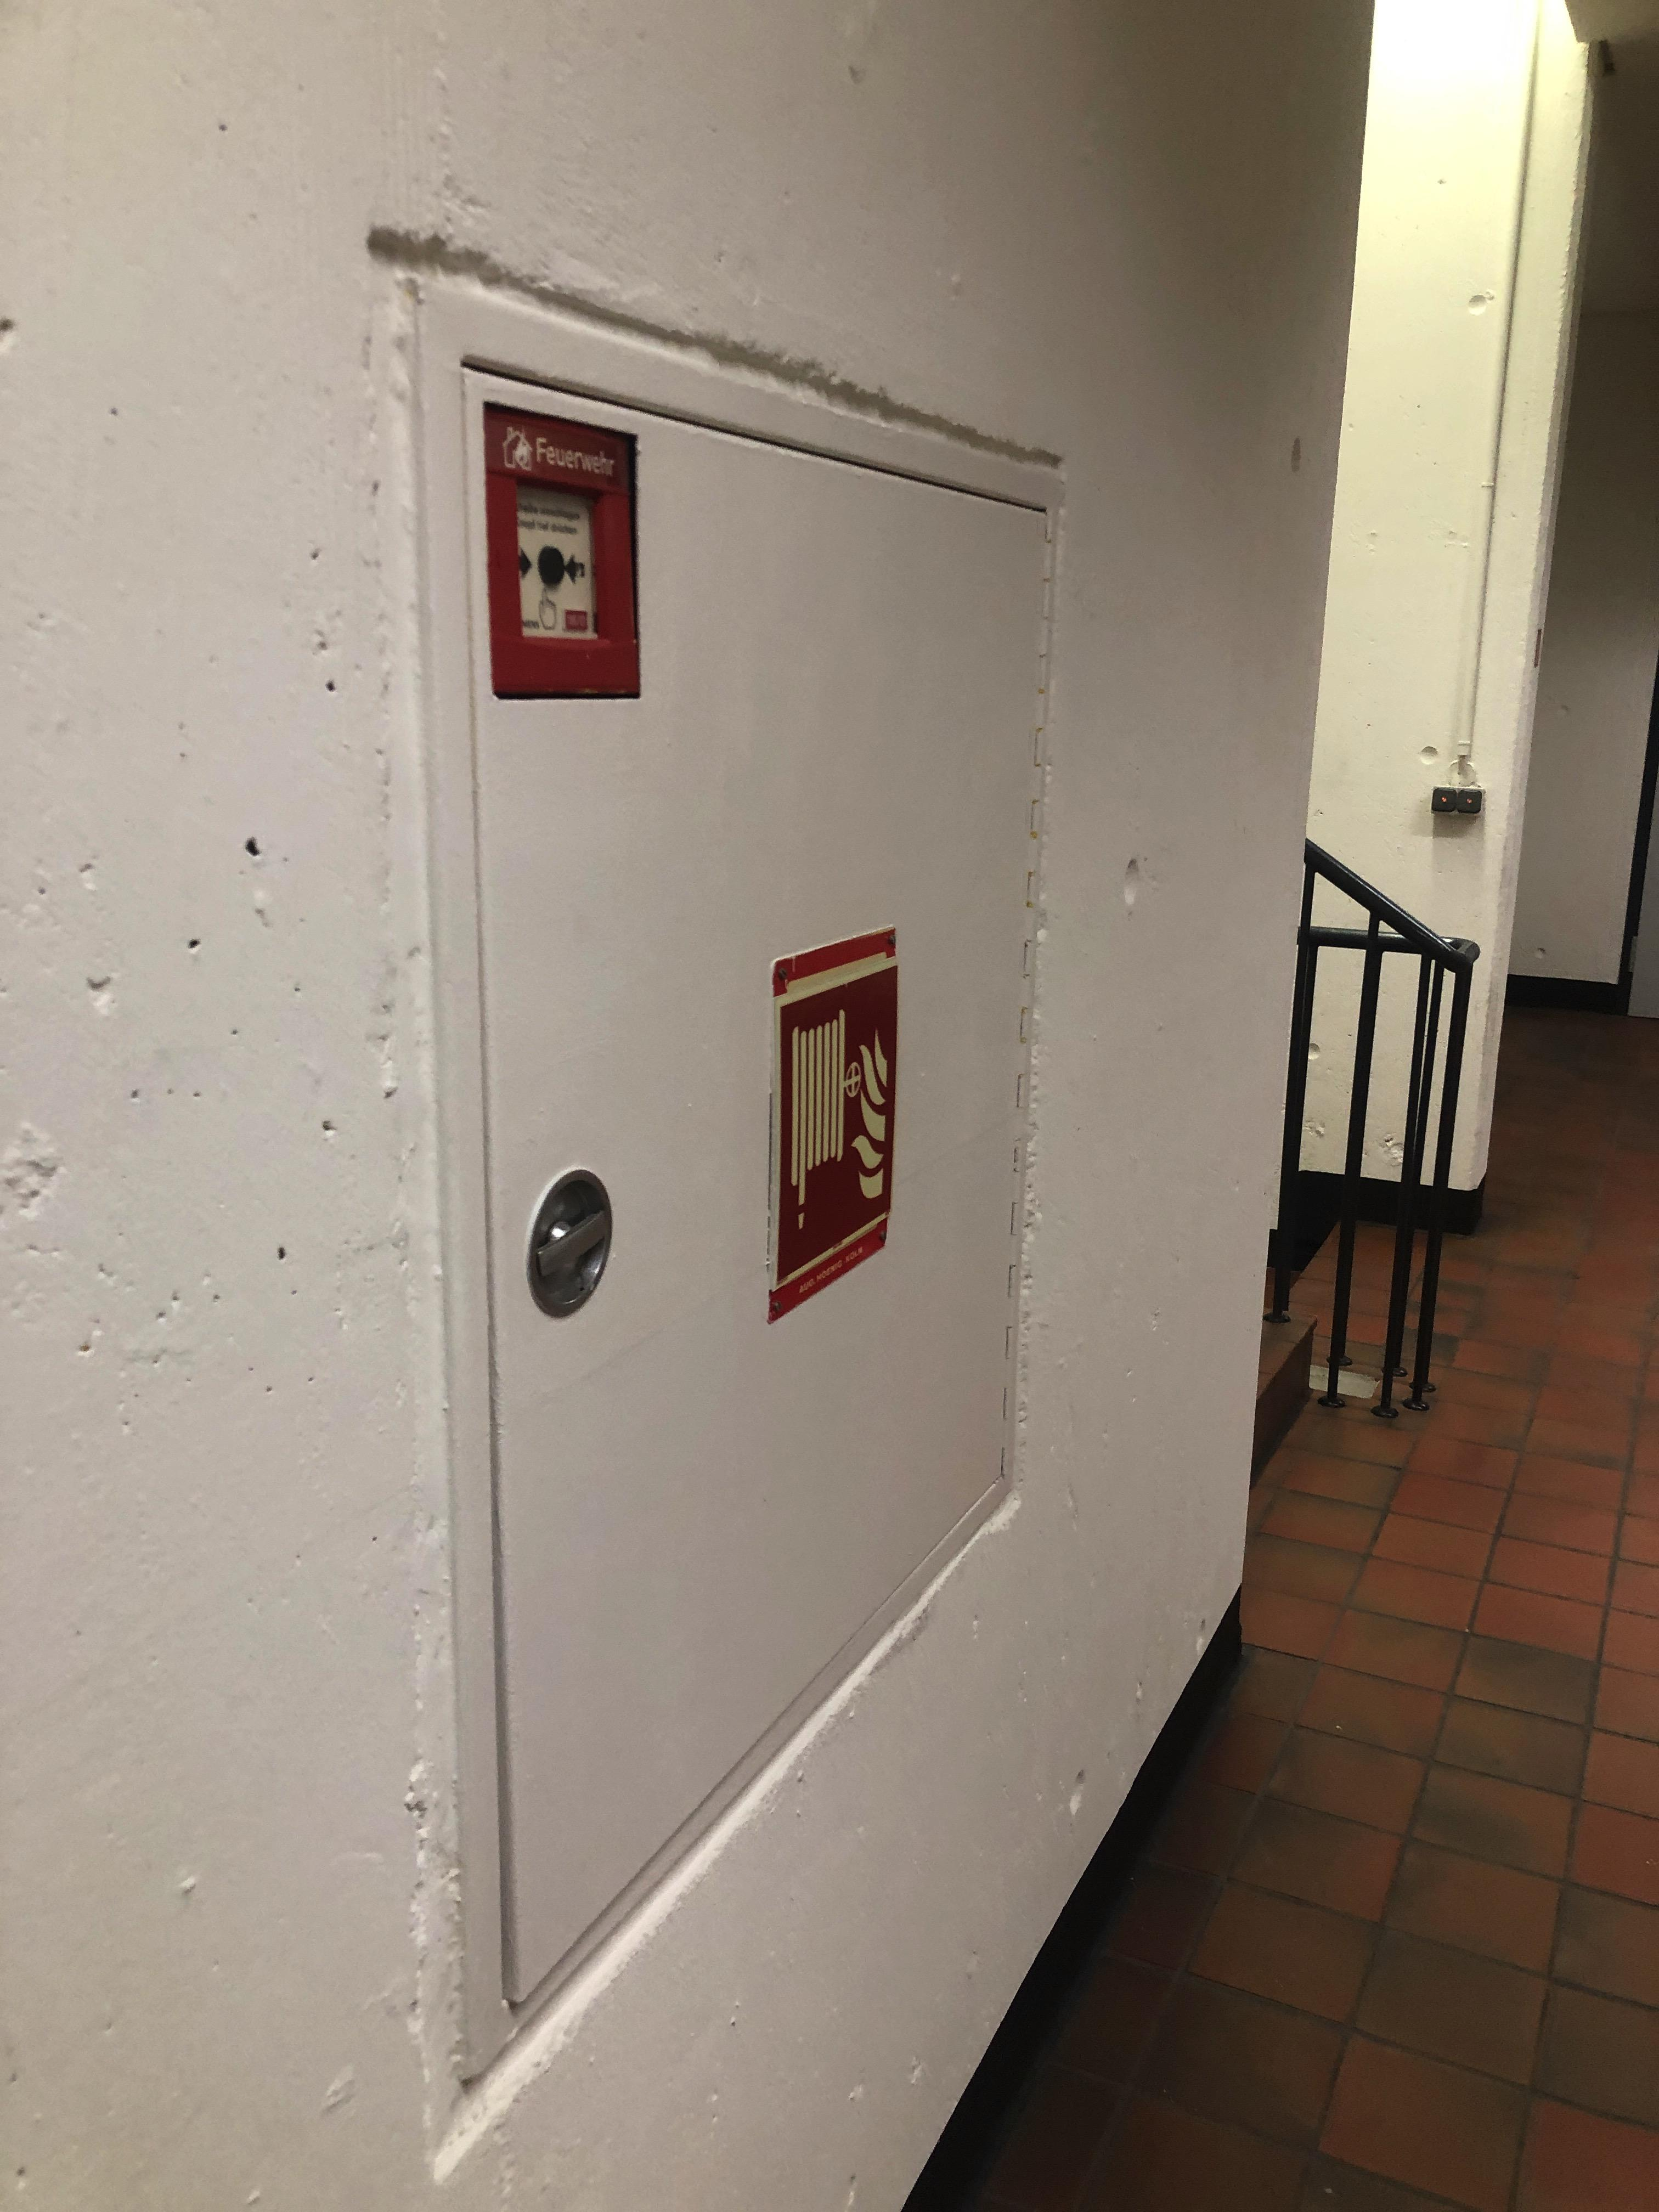call_point: (484, 409, 634, 691)
